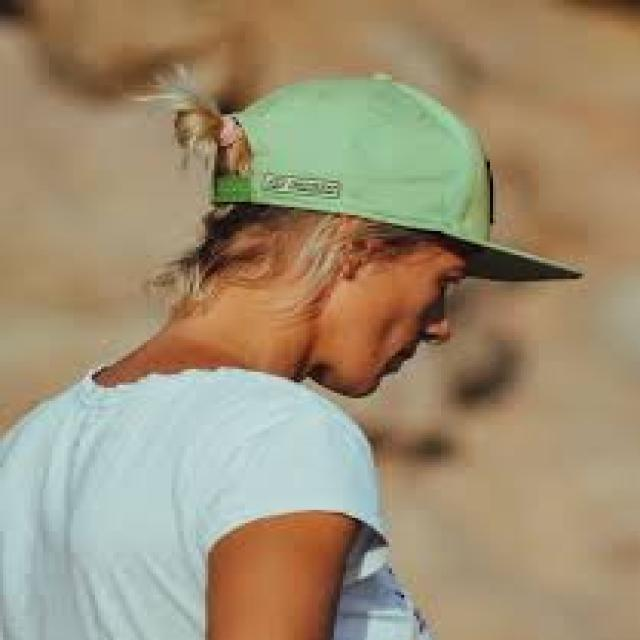cap: (199, 48, 597, 345)
